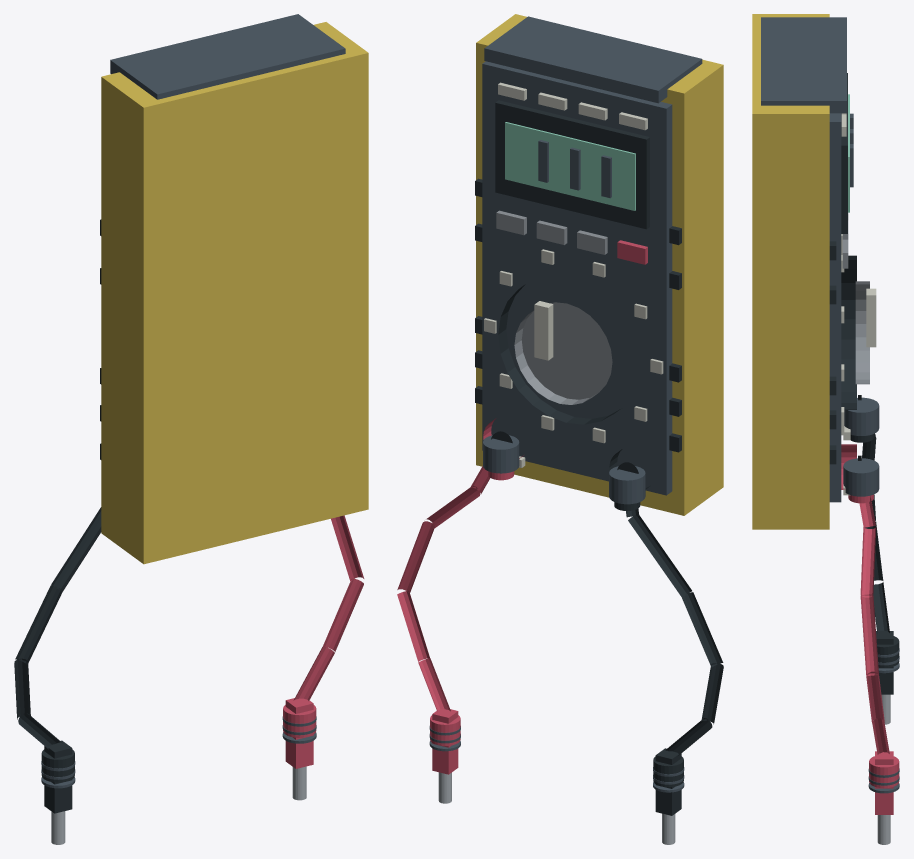
File: multimeter-detailed-review.glb
3 views of the same model, side by side, from view 1: azimuth 30°, elevation 25°; view 2: azimuth 150°, elevation 25°; view 3: azimuth 270°, elevation 25° (orthographic). The views are drawn at different scales.
Size of the model in its own units: 2.56 by 5.63 by 1.03.
